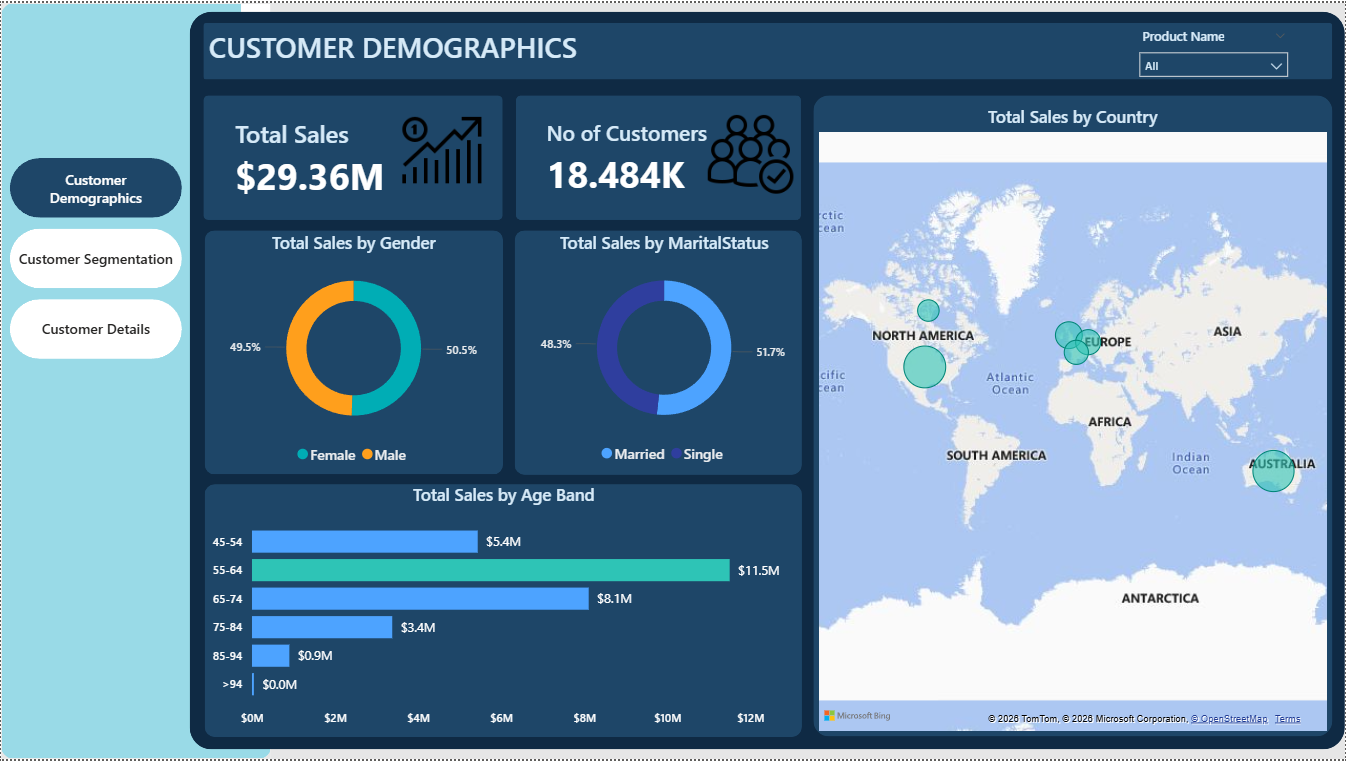

Layout of this report page (visuals, bound fields, positions):
{"tool":"powerbi","page":{"name":"Customer Demographics","canvas":[1280,720],"ordinal":0},"visuals":[{"type":"shape","box":[0,0,1280.4,720.2],"z":0},{"type":"shape","box":[0,0,257.5,720],"z":1000},{"type":"shape","box":[180,8.8,1100,702.5],"z":2000},{"type":"shape","box":[193.2,19.6,1074.9,53.8],"z":3000},{"type":"shape","box":[774.1,88,494,610.2],"z":4000},{"type":"shape","box":[194.2,458.1,568.6,240.7],"z":5000},{"type":"shape","box":[489.5,216.3,273.3,232.6],"z":6000},{"type":"shape","box":[193.9,216.4,284,232.2],"z":7000},{"type":"shape","box":[490.4,88,271.5,118.6],"z":8000},{"type":"shape","box":[193.2,88,284.9,118.6],"z":9000},{"type":"cardVisual","fields":{"Data":["Sum(FactInternetSales.SalesAmount)"]},"box":[194.4,88,283.7,118.6],"z":10000},{"type":"image","box":[362,96.6,116.2,85.6],"z":11000},{"type":"cardVisual","fields":{"Data":["Count(DimCustomer.CustomerKey)"]},"box":[490.4,88,272.7,118.6],"z":12000},{"type":"image","box":[664,100.3,99,81.9],"z":13000},{"type":"donutChart","fields":{"Y":["Sum(FactInternetSales.SalesAmount)"],"Category":["DimCustomer.Gender"]},"box":[193.9,216.4,284,232.2],"z":14000},{"type":"donutChart","fields":{"Y":["Sum(FactInternetSales.SalesAmount)"],"Category":["DimCustomer.MaritalStatus"]},"box":[489.5,216.3,284.9,231.4],"z":15000},{"type":"barChart","title":"Total Sales by Age Band","fields":{"Y":["Sum(FactInternetSales.SalesAmount)"],"Category":["Age Band.Age Range"]},"box":[195.7,457.3,567.4,240.9],"z":16000},{"type":"map","title":"Total Sales by Country","fields":{"Size":["Sum(FactInternetSales.SalesAmount)"],"Category":["DimGeography.Country"]},"box":[774.1,96.6,494,601.6],"z":17000},{"type":"textbox","box":[193.2,19.6,375.4,50.1],"z":18000},{"type":"slicer","fields":{"Values":["DimProduct.Product Name"]},"box":[1074.1,19.2,162.3,68.8],"z":19000},{"type":"pageNavigator","box":[7.9,147.7,164.6,191.6],"z":20000}]}

Visuals, with their boxes on the page's 1280x720 design canvas (x1, y1, x2, y2). These are canvas units, not pixel positions in the 1346x761 screenshot, which may show the page scaled, cropped or inside an application window:
shape: (0,0,1280,720)
shape: (0,0,258,720)
shape: (180,9,1280,711)
shape: (193,20,1268,73)
shape: (774,88,1268,698)
shape: (194,458,763,699)
shape: (490,216,763,449)
shape: (194,216,478,449)
shape: (490,88,762,207)
shape: (193,88,478,207)
cardVisual - Sum(FactInternetSales.SalesAmount): (194,88,478,207)
image: (362,97,478,182)
cardVisual - Count(DimCustomer.CustomerKey): (490,88,763,207)
image: (664,100,763,182)
donutChart - Sum(FactInternetSales.SalesAmount) x DimCustomer.Gender: (194,216,478,449)
donutChart - Sum(FactInternetSales.SalesAmount) x DimCustomer.MaritalStatus: (490,216,774,448)
"Total Sales by Age Band" barChart: (196,457,763,698)
"Total Sales by Country" map: (774,97,1268,698)
textbox: (193,20,569,70)
slicer - DimProduct.Product Name: (1074,19,1236,88)
pageNavigator: (8,148,172,339)
